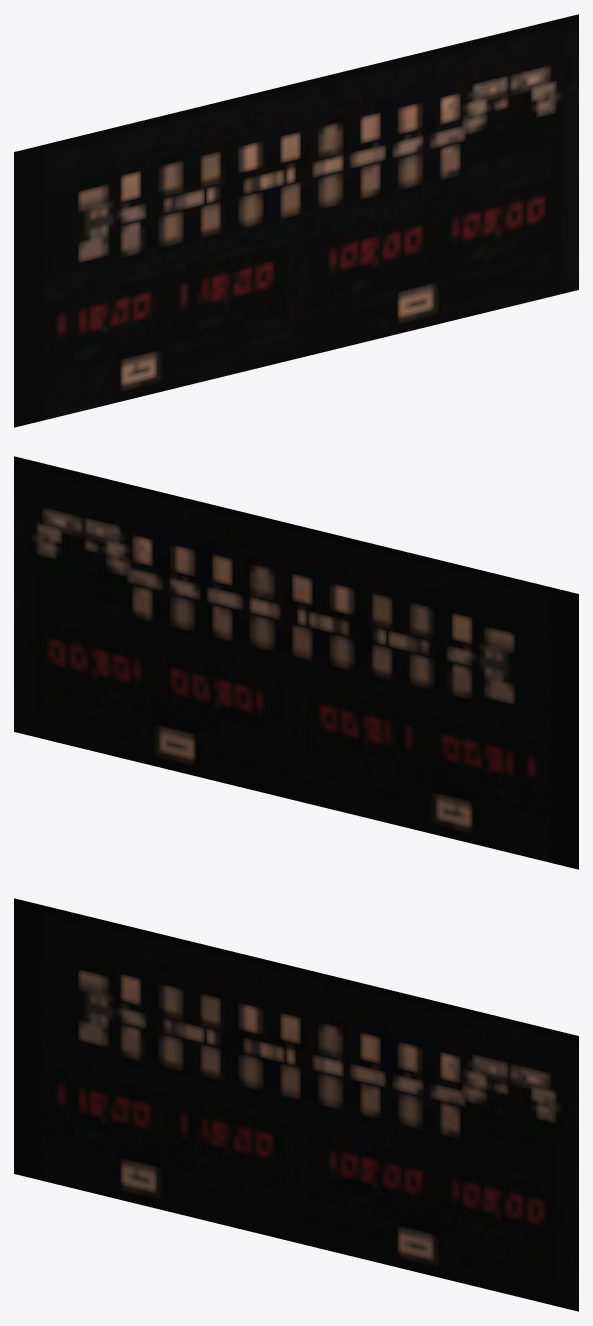
The model's file is plane_interior_panel_light_03.dae.
3 views of the same model, one above another, from view 1: azimuth 30°, elevation 25°; view 2: azimuth 150°, elevation 25°; view 3: azimuth 330°, elevation 25° (orthographic).
Parts seen in each view (by area): view 1: plane_interior_panel_light_03; view 2: plane_interior_panel_light_03; view 3: plane_interior_panel_light_03.
Part boxes in pixels (x1,y1,x2,y2): plane_interior_panel_light_03: [14, 14, 578, 427]; plane_interior_panel_light_03: [14, 456, 578, 869]; plane_interior_panel_light_03: [14, 898, 578, 1311].
Bounding box in the file's own units: 59.17 × 27.58 × 0.
